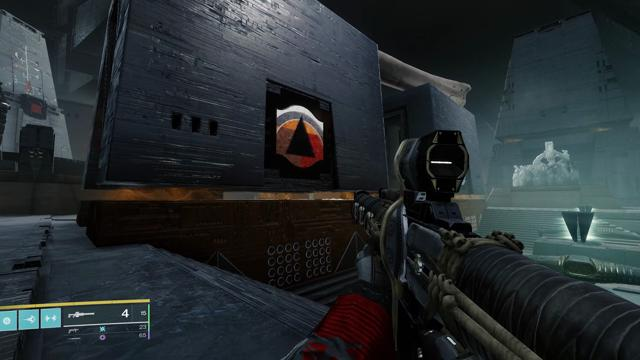pyramid: (276, 105, 323, 167)
